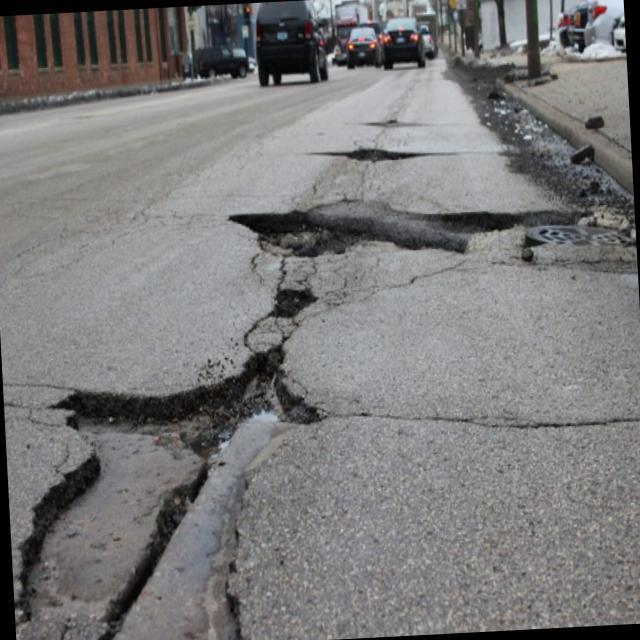Pothole: (19, 346, 390, 640), (453, 22, 639, 302), (225, 188, 450, 298), (334, 97, 486, 142), (336, 139, 464, 165)
